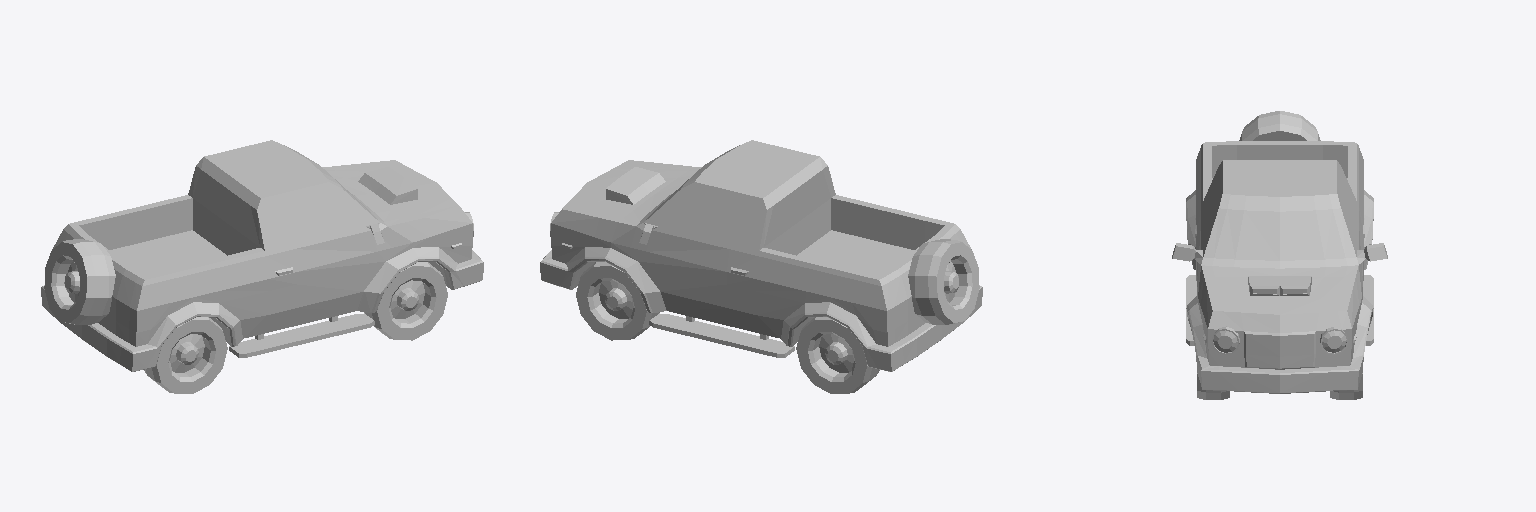
Rendered from 1385 Jeep.obj.
The picture shows the model from 3 angles: view 1: azimuth 30°, elevation 25°; view 2: azimuth 150°, elevation 25°; view 3: azimuth 270°, elevation 25°; orthographic projection.
Parts seen in each view (by area): view 1: 1385_Jeep; view 2: 1385_Jeep; view 3: 1385_Jeep.
Boxes of the visible parts, x1=… form: 1385_Jeep: x1=41, y1=140, x2=483, y2=393; 1385_Jeep: x1=540, y1=140, x2=982, y2=393; 1385_Jeep: x1=1172, y1=111, x2=1387, y2=399.
Bounding box in the file's own units: 9.65 × 3.93 × 4.55.